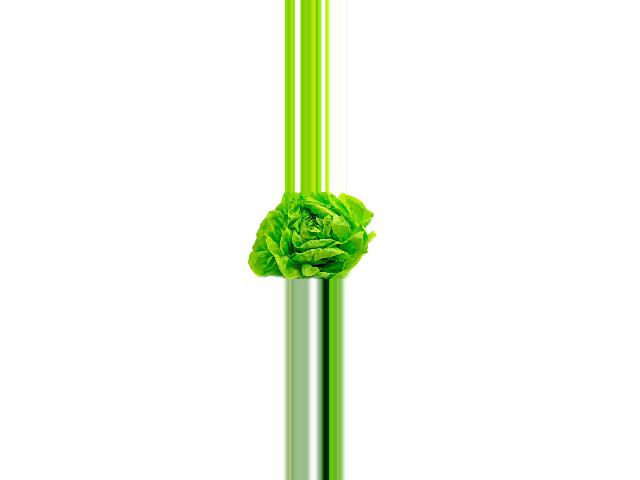lettuce: (245, 192, 370, 280)
